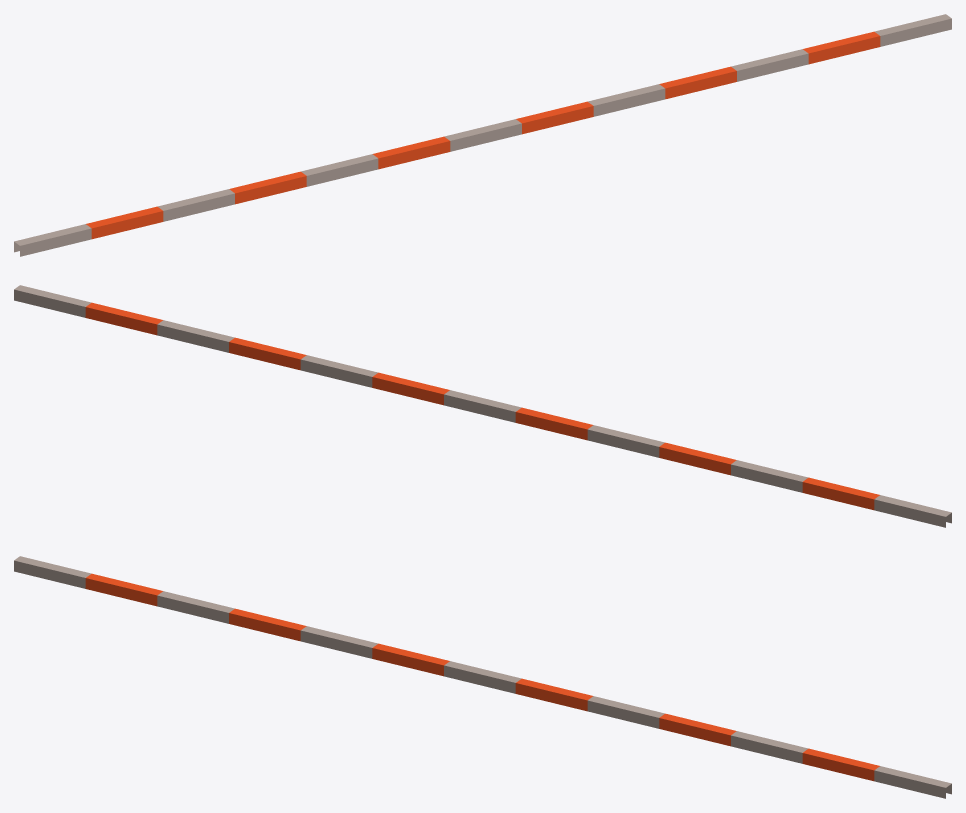
Rendered from phaochianuoc.fbx.
3 views of the same model, one above another, from view 1: azimuth 30°, elevation 25°; view 2: azimuth 150°, elevation 25°; view 3: azimuth 330°, elevation 25° (orthographic).
Visible parts, largest first — view 1: phaochianuoc; view 2: phaochianuoc; view 3: phaochianuoc.
Boxes of the visible parts, x1=… form: phaochianuoc: x1=14, y1=14, x2=951, y2=256; phaochianuoc: x1=14, y1=285, x2=951, y2=527; phaochianuoc: x1=14, y1=556, x2=951, y2=798.
Size of the model in its own units: 3019 by 33.94 by 33.94.
